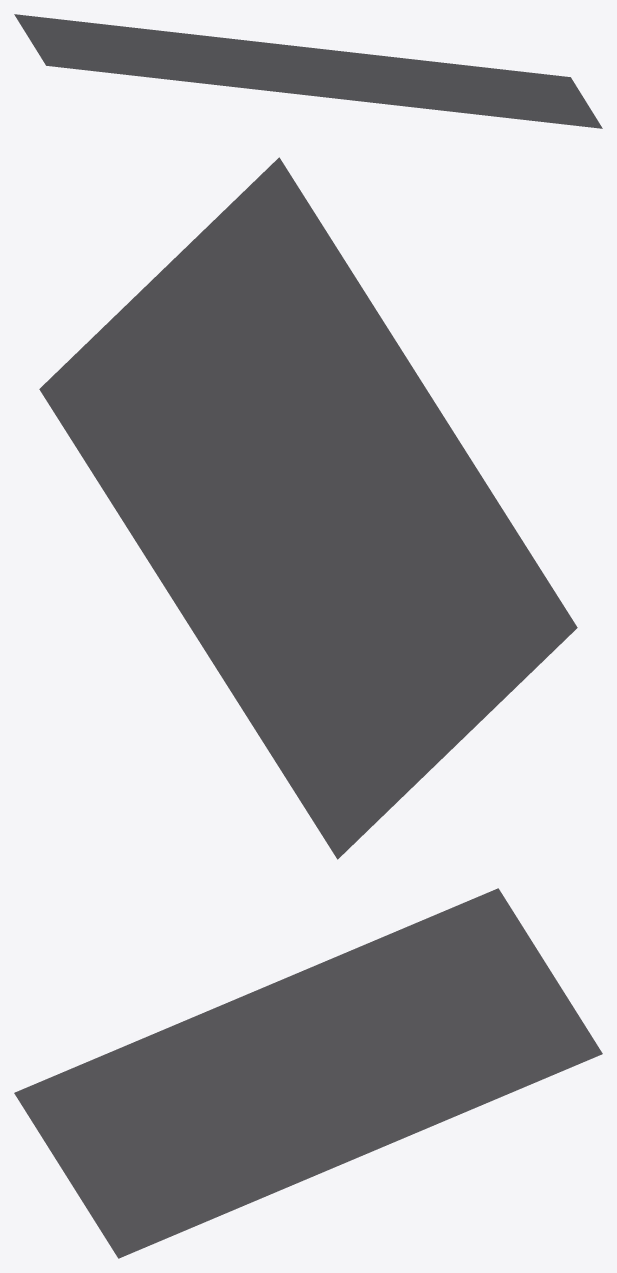
Rendered from secondary_202.glb.
The picture shows the model from 3 angles, top to bottom: view 1: azimuth 30°, elevation 25°; view 2: azimuth 150°, elevation 25°; view 3: azimuth 270°, elevation 25°; orthographic projection. The views are drawn at different scales.
Visible parts, largest first — view 1: Object; view 2: Object; view 3: Object.
Boxes of the visible parts, x1=… form: Object: x1=14, y1=14, x2=602, y2=128; Object: x1=39, y1=157, x2=577, y2=859; Object: x1=14, y1=888, x2=602, y2=1258.
Bounding box in the file's own units: 3.69 × 0.8415 × 3.69.
1 material, 1 textured.
